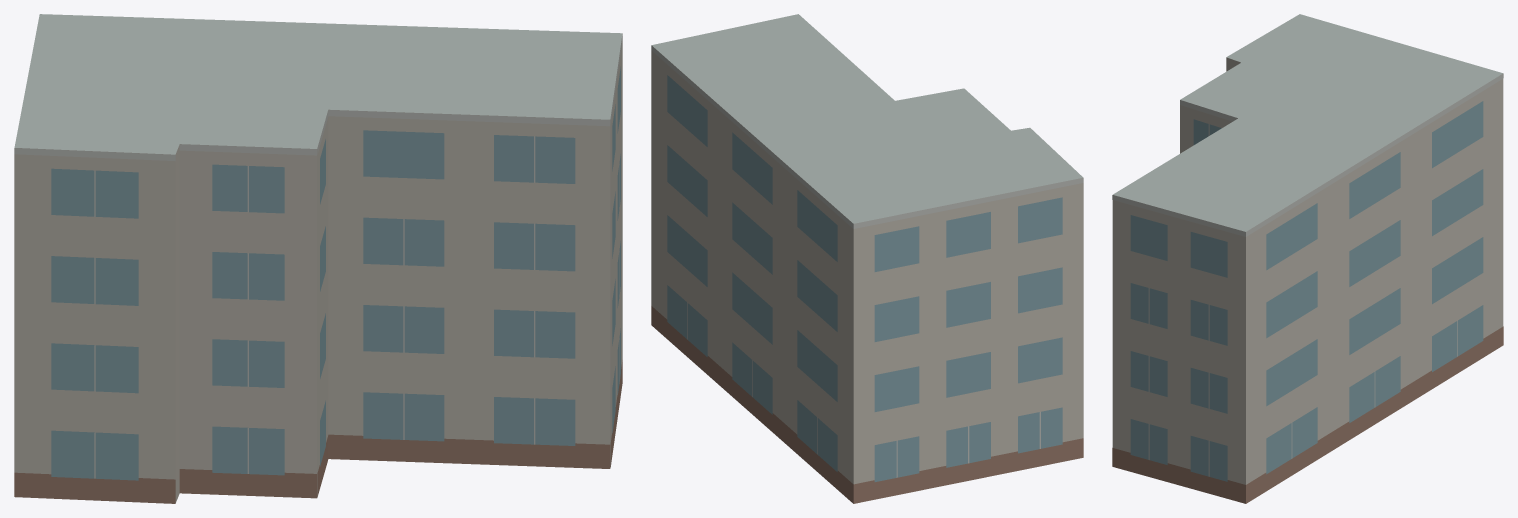
File: survey-upis-32739930.glb
The picture shows the model from 3 angles, left to right: view 1: azimuth 30°, elevation 25°; view 2: azimuth 150°, elevation 25°; view 3: azimuth 270°, elevation 25°; orthographic projection. The views are drawn at different scales.
Visible parts, largest first — view 1: survey-upis-32739930.tmp; view 2: survey-upis-32739930.tmp; view 3: survey-upis-32739930.tmp.
Part boxes in pixels (x1,y1,x2,y2): survey-upis-32739930.tmp: (14,14,622,503); survey-upis-32739930.tmp: (651,14,1083,503); survey-upis-32739930.tmp: (1112,14,1503,503).
Bounding box in the file's own units: 22.44 × 13.05 × 17.01.
